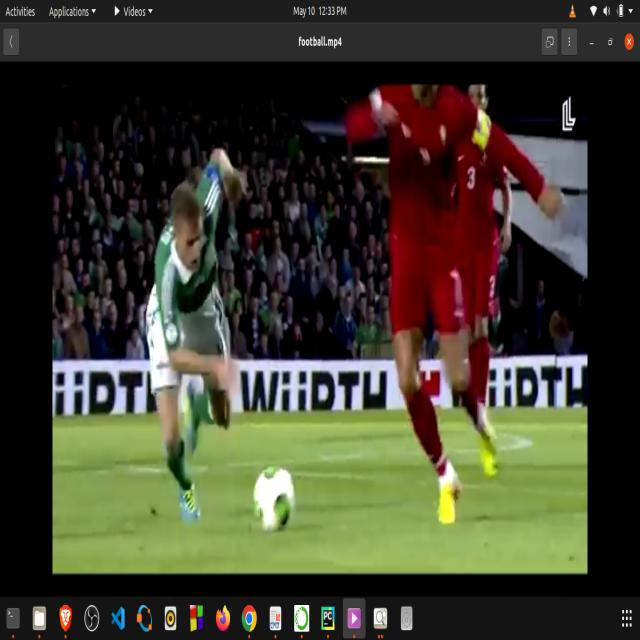ball: (251, 463, 299, 549)
player: (335, 80, 558, 534), (138, 140, 242, 522)
